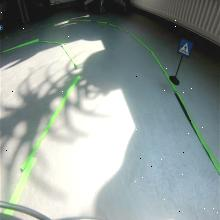crosswalk: (177, 38, 194, 58)
